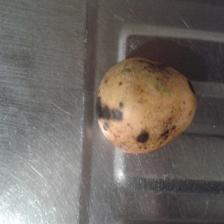Mango Semirotten: (94, 53, 200, 156)
